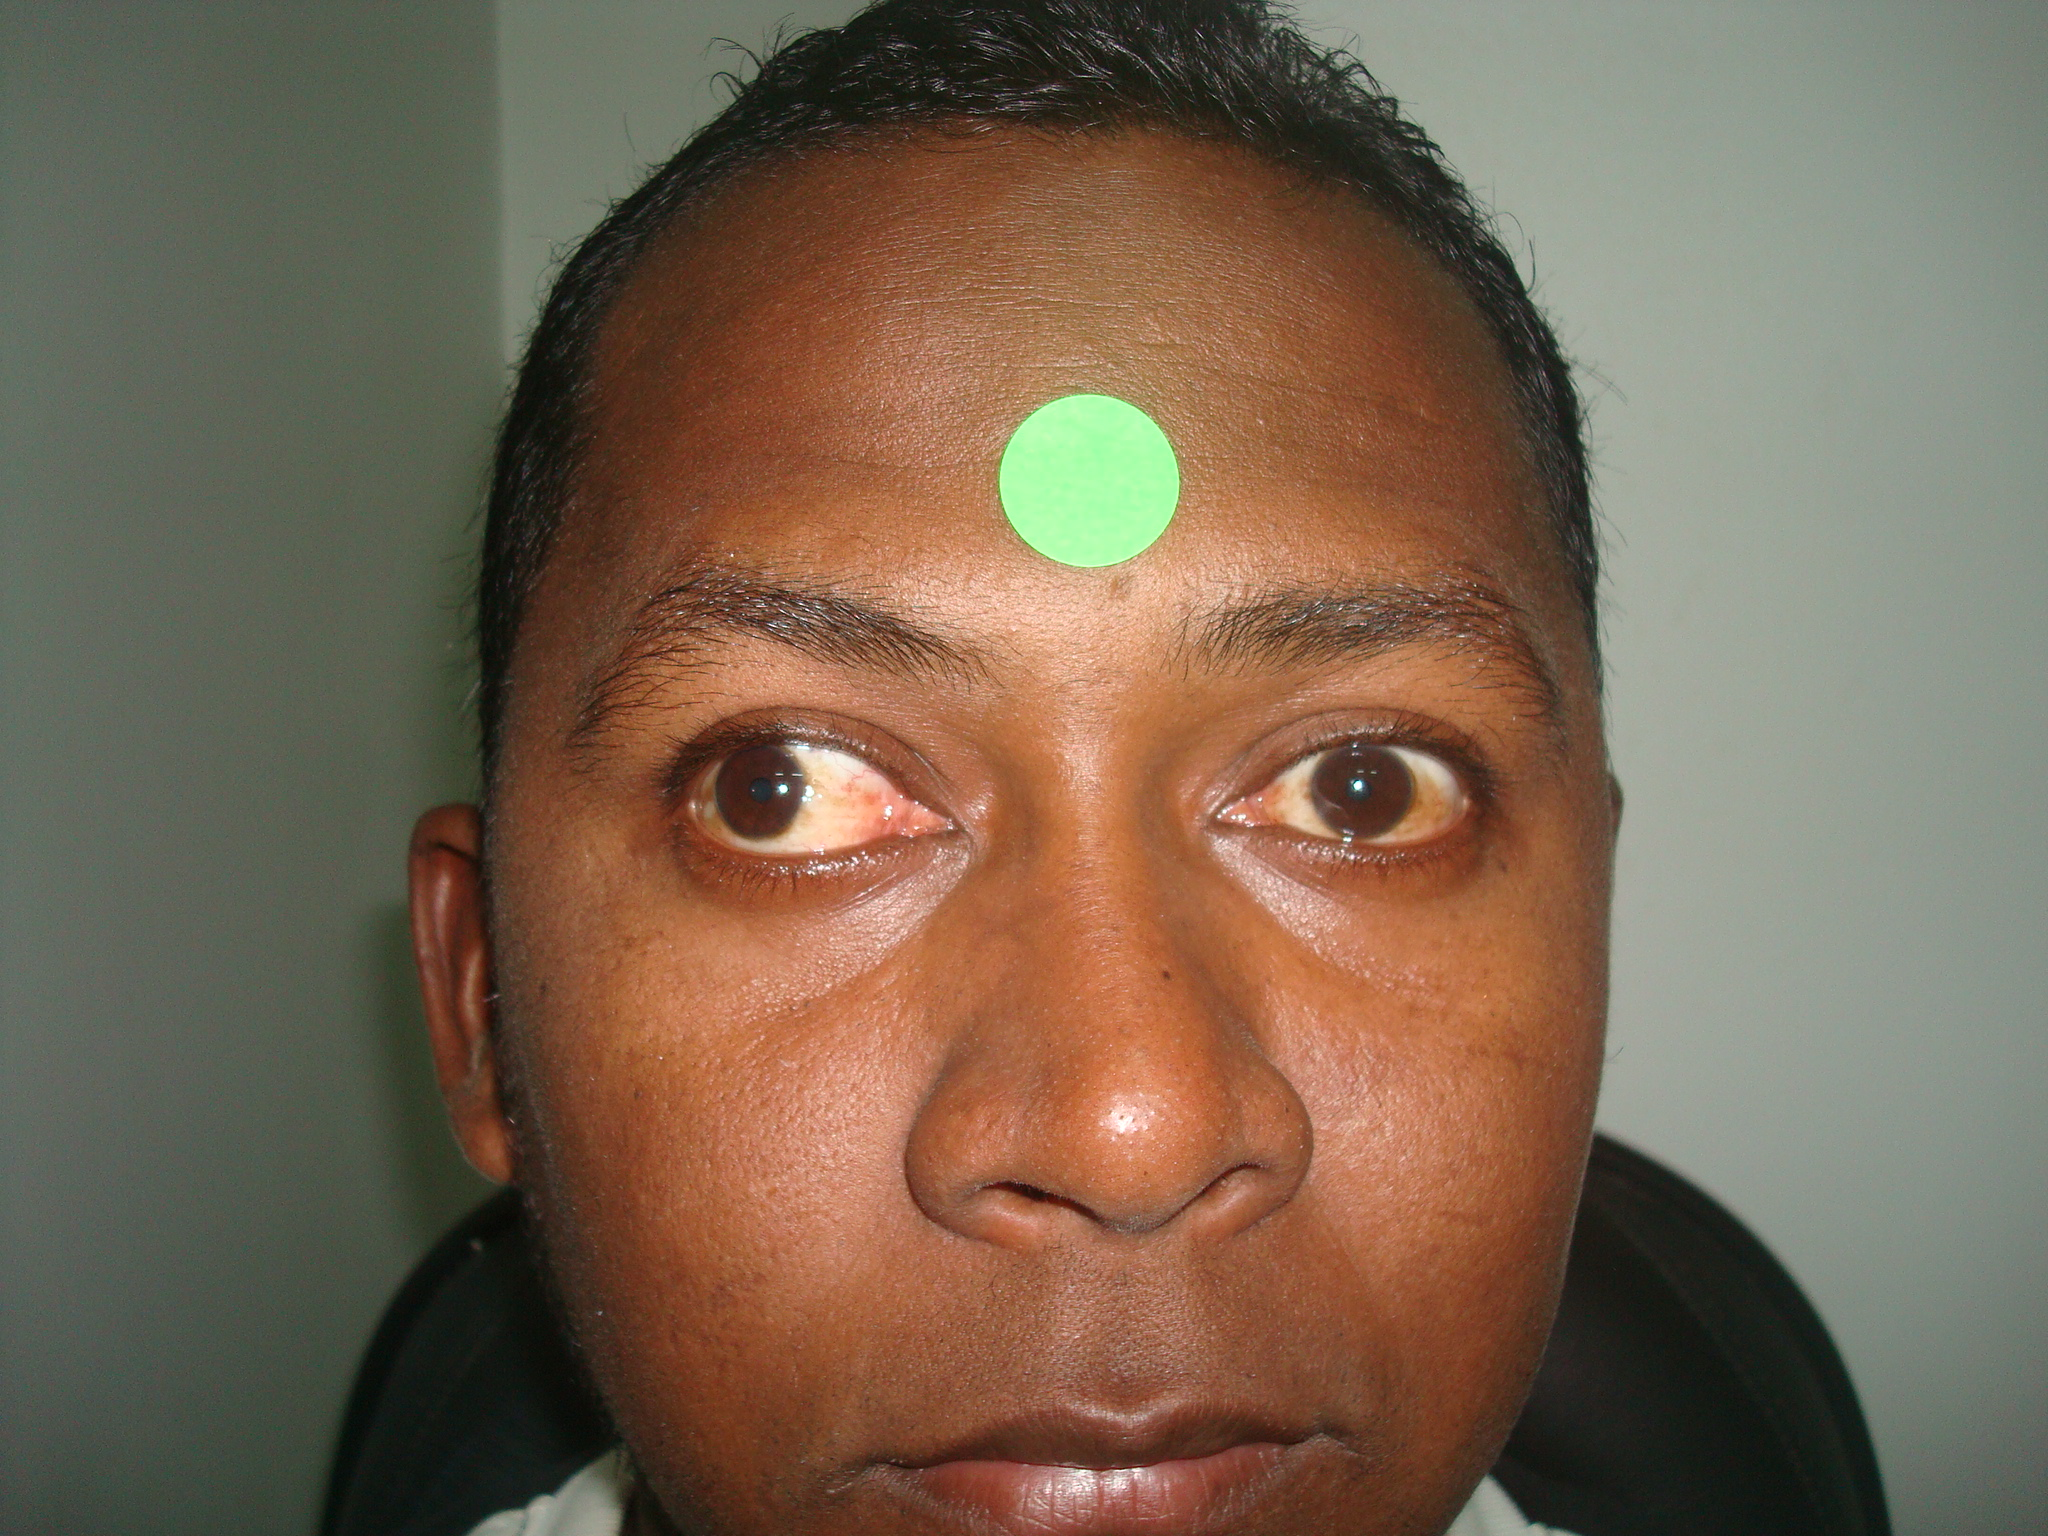flash: (774, 779, 792, 797), (1350, 778, 1366, 792)
limbo: (1306, 741, 1409, 837), (711, 744, 810, 837)
